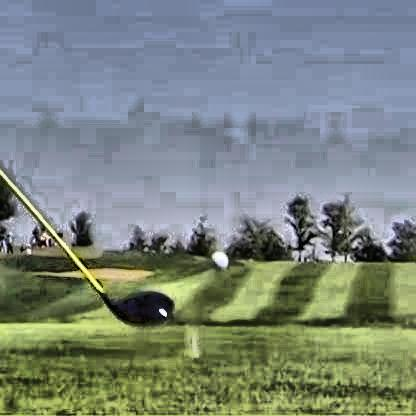golfball: (207, 248, 225, 268)
